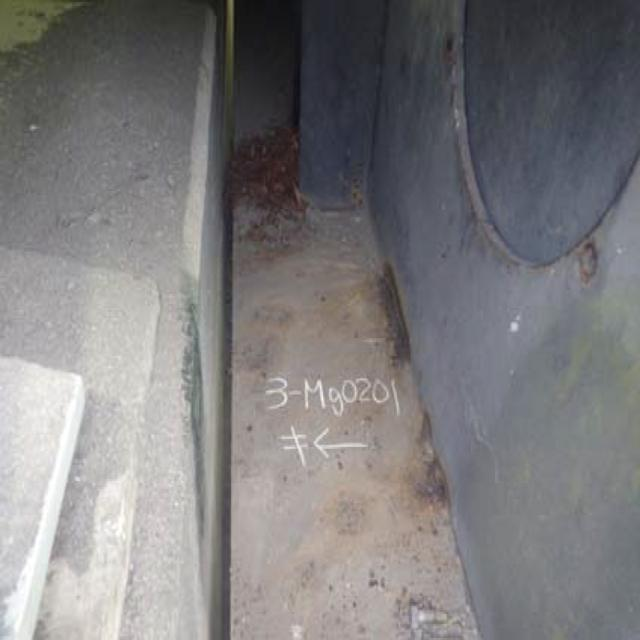corrosion: (229, 130, 317, 230)
